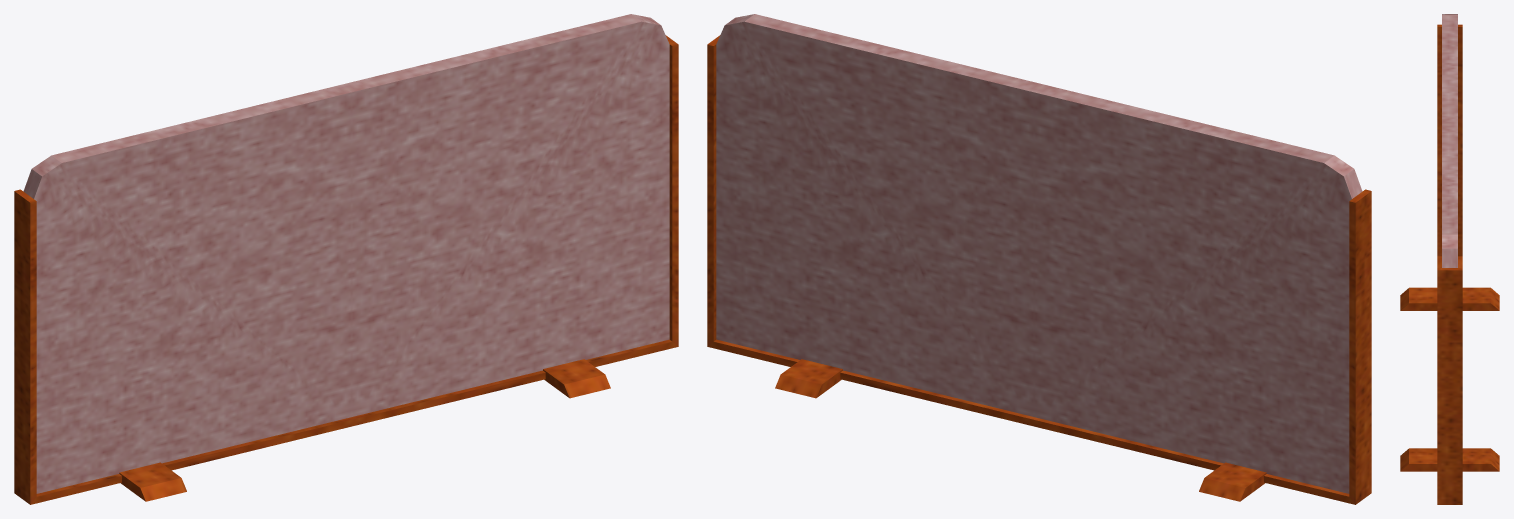
The model's file is divider_veneer_red_low.obj.
3 renders of one model, left to right at view 1: azimuth 30°, elevation 25°; view 2: azimuth 150°, elevation 25°; view 3: azimuth 270°, elevation 25°, orthographic. The views are drawn at different scales.
Parts seen in each view (by area): view 1: divider_veneer_red_low; view 2: divider_veneer_red_low; view 3: divider_veneer_red_low.
Part boxes in pixels (bbox=[...]): divider_veneer_red_low: bbox=[14, 14, 678, 504]; divider_veneer_red_low: bbox=[707, 14, 1371, 504]; divider_veneer_red_low: bbox=[1400, 14, 1499, 504].
Bounding box in the file's own units: 3.06 × 1.5 × 0.523.
